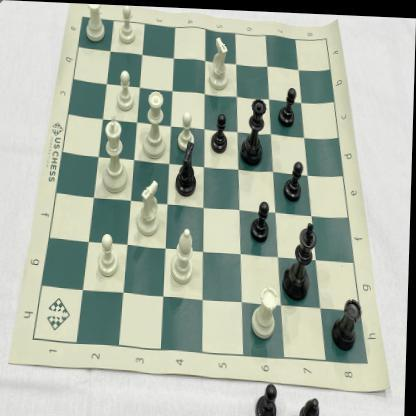black-king: (284, 218, 320, 304)
black-knight: (174, 139, 199, 196)
black-pawn: (249, 196, 273, 241), (208, 110, 231, 153), (283, 157, 305, 201), (278, 83, 299, 127)
black-queen: (241, 96, 268, 167)
black-rook: (331, 293, 364, 350)
white-bishop: (170, 225, 197, 285)
white-king: (100, 112, 132, 193)
white-knight: (137, 176, 164, 237)
white-pawn: (97, 231, 122, 278), (176, 108, 197, 151), (117, 4, 138, 46), (116, 67, 136, 111)
white-queen: (140, 86, 169, 160)
white-rook: (252, 279, 281, 341), (83, 3, 109, 45)
